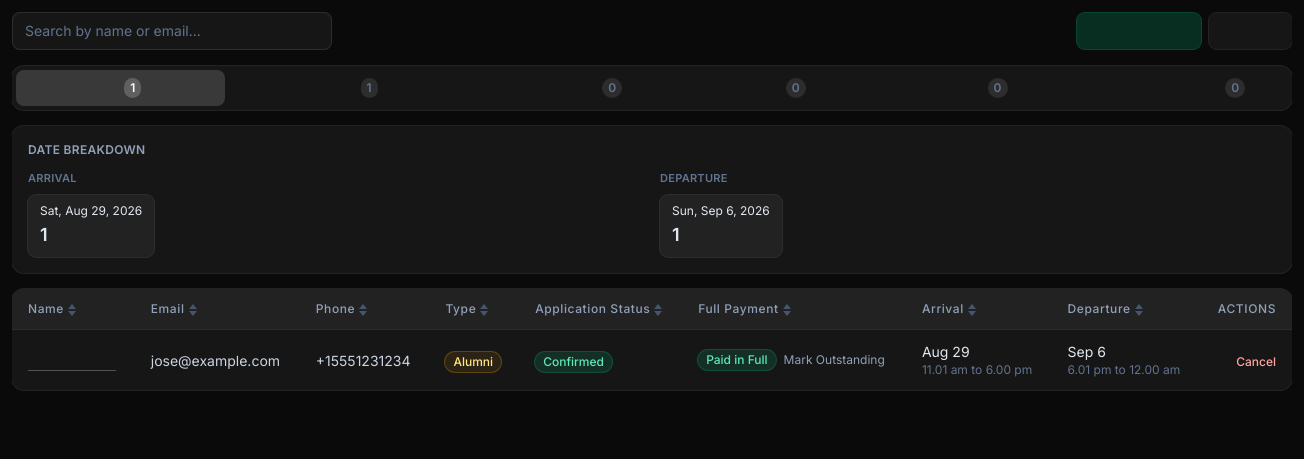
MembersTable search › finds an accented name typed without accents, and vice versa
The image size is (1304, 459).
Type "jose nguyen" into the field with placeholder "Search by name or email..." at x=172, y=31, box [12,12,332,50]
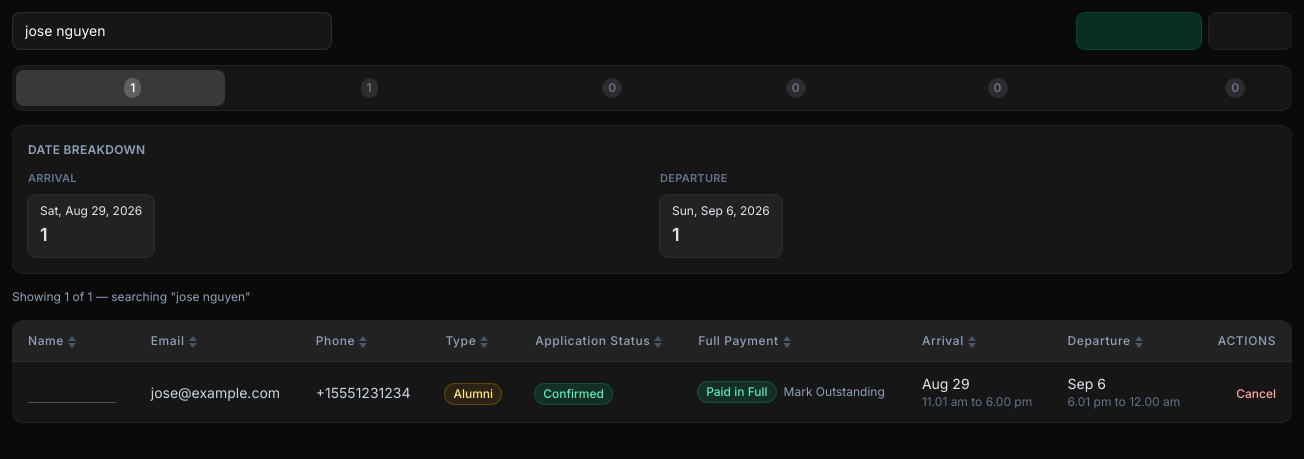
Expected: the button "José Nguyễn" is shown, [28,382,116,402]
Replace the text in the field with placeholder "Search by name or email..." with "JOSÉ" at x=172, y=31, box [12,12,332,50]
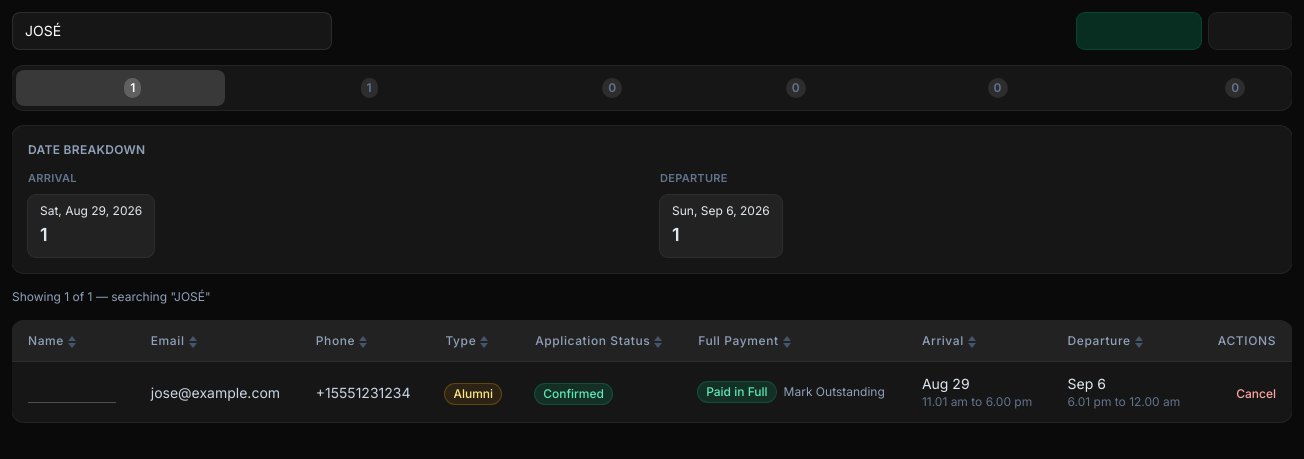
Expected: the button "José Nguyễn" is shown, [28,382,116,402]
Replace the text in the field with placeholder "Search by name or email..." with "smith" at x=172, y=31, box [12,12,332,50]
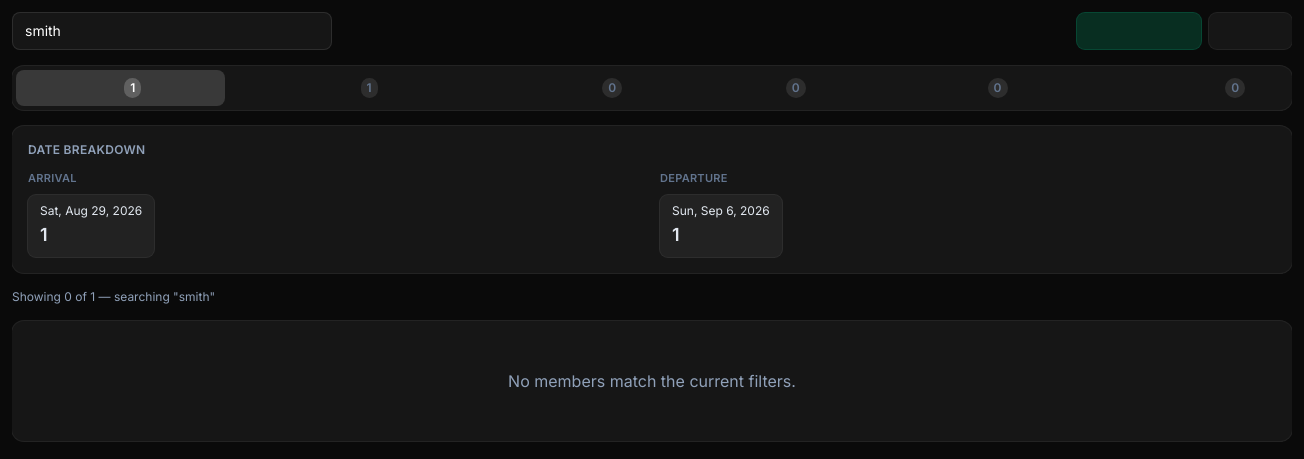
Now the button "José Nguyễn" is gone
